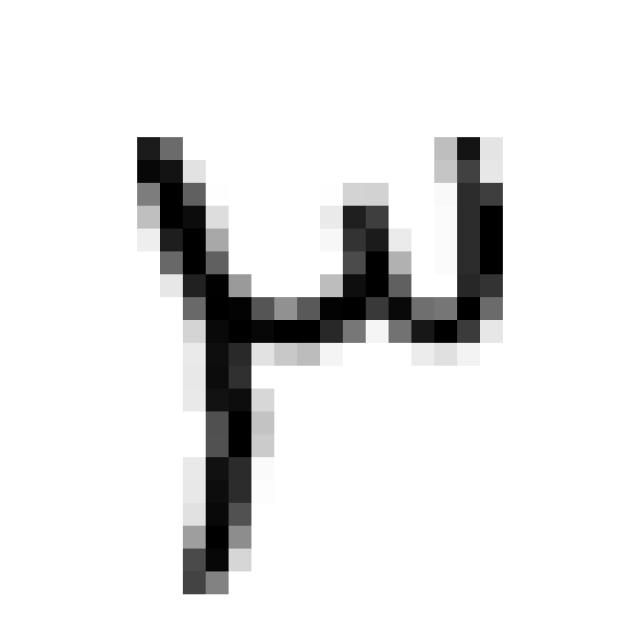3 -three-: (108, 100, 526, 612)
